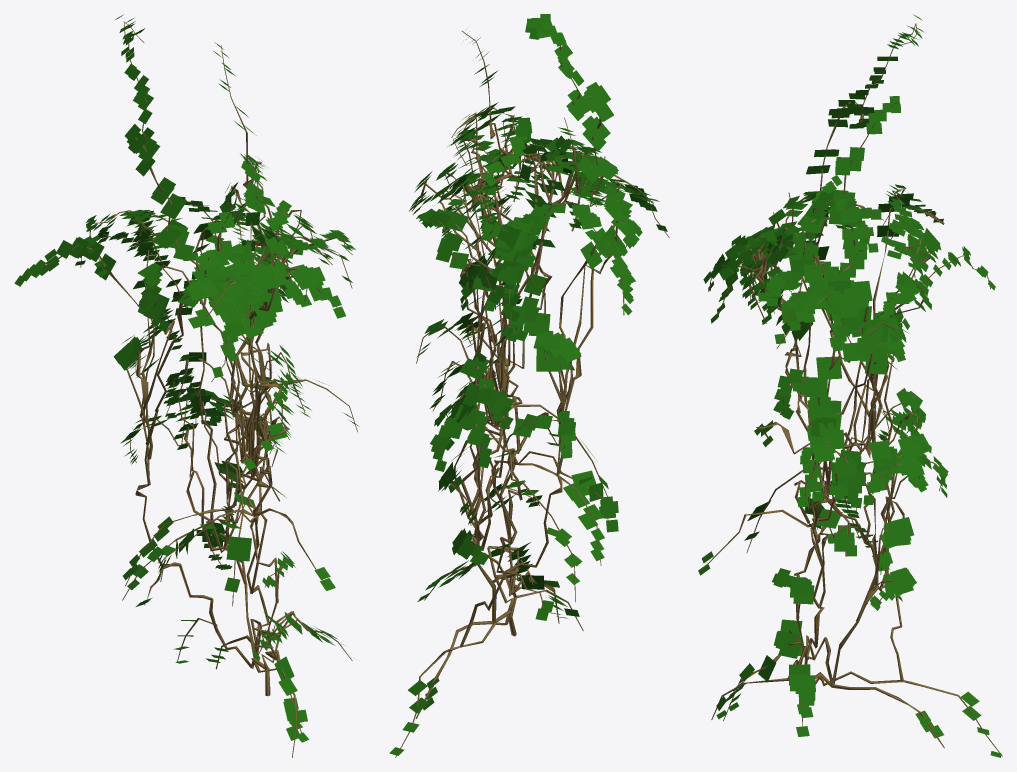
File: ivy2.fbx
3 renders of one model, left to right at view 1: azimuth 30°, elevation 25°; view 2: azimuth 150°, elevation 25°; view 3: azimuth 270°, elevation 25°, orthographic. The views are drawn at different scales.
Visible parts, largest first — view 1: IvyLeaf.001; view 2: IvyLeaf.001; view 3: IvyLeaf.001.
Part boxes in pixels (<box>): IvyLeaf.001: <box>14,14,359,757</box>; IvyLeaf.001: <box>389,14,669,757</box>; IvyLeaf.001: <box>698,14,1002,757</box>.
Size of the model in its own units: 164 by 404 by 161.
